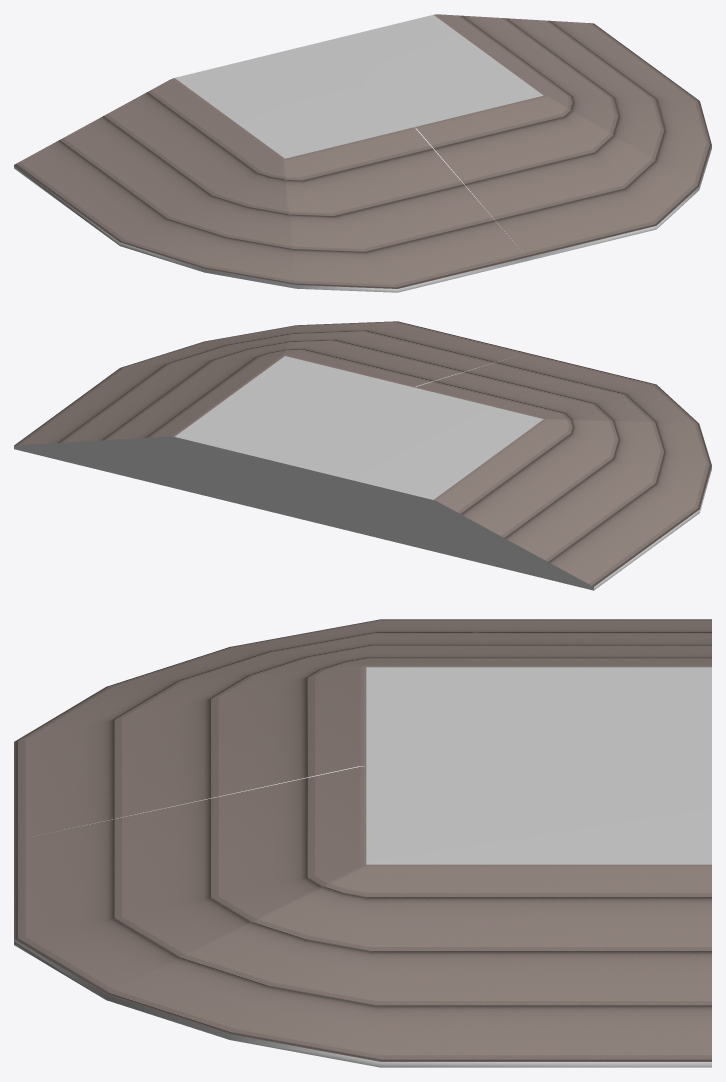
The model's file is ThronePlatform_S.fbx.
The picture shows the model from 3 angles, top to bottom: view 1: azimuth 30°, elevation 25°; view 2: azimuth 150°, elevation 25°; view 3: azimuth 270°, elevation 25°; orthographic projection. The views are drawn at different scales.
Parts seen in each view (by area): view 1: ThronePlatform_S; view 2: ThronePlatform_S; view 3: ThronePlatform_S.
Part boxes in pixels (x1=…): ThronePlatform_S: x1=14, y1=14, x2=711, y2=292; ThronePlatform_S: x1=14, y1=321, x2=711, y2=590; ThronePlatform_S: x1=14, y1=619, x2=711, y2=1067.
Size of the model in its own units: 472 by 40.03 by 315.
